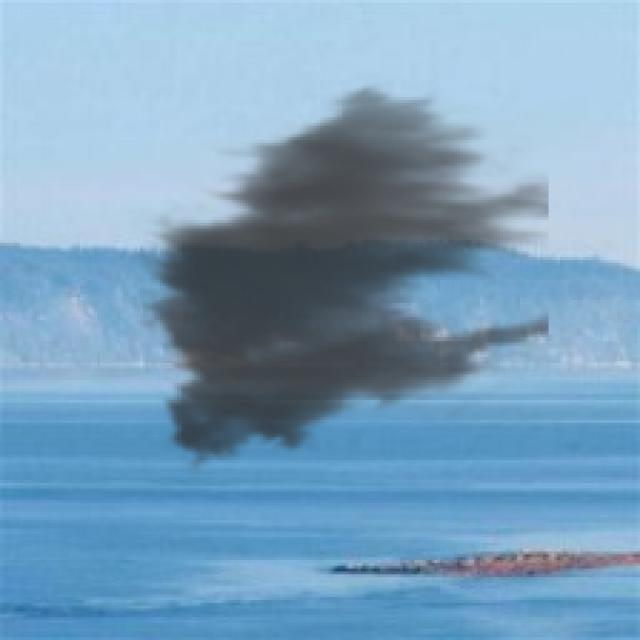smoke: (128, 74, 548, 480)
